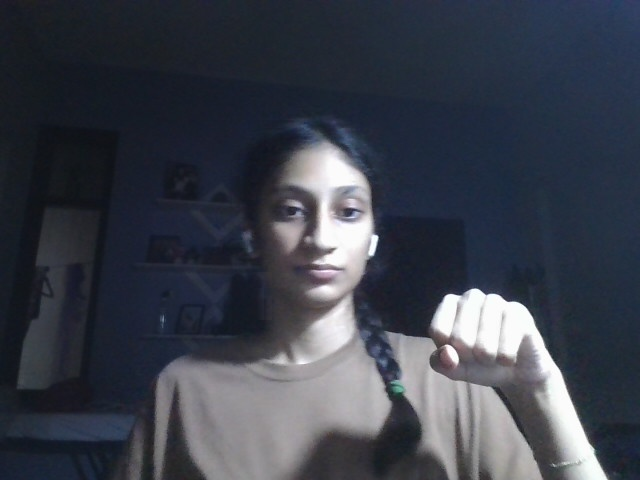yes: (419, 284, 555, 390)
